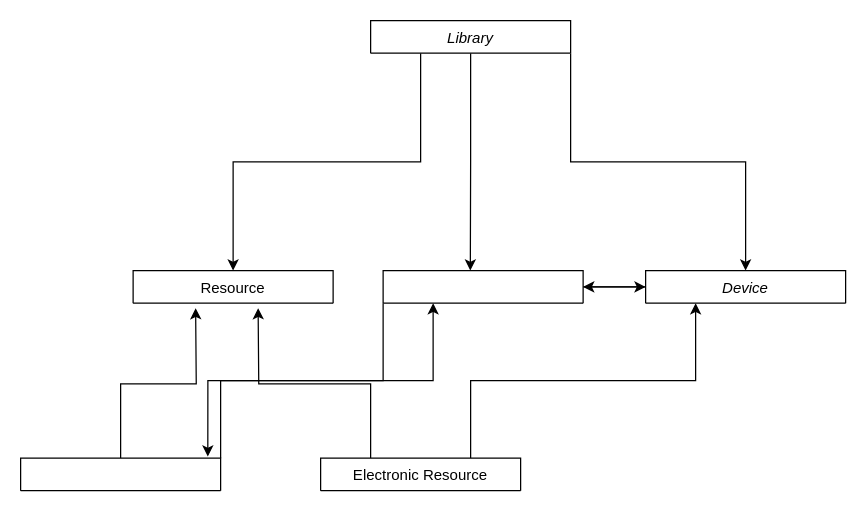
The diagram is 866 pixels wide and 511 high, and some of its shapes have lost their labels. Here are the shapes that lost their labels. From the top down, the centre of each, then its label:
At (x=482, y=286): "LibraryMember".
At (x=120, y=474): "Book".
